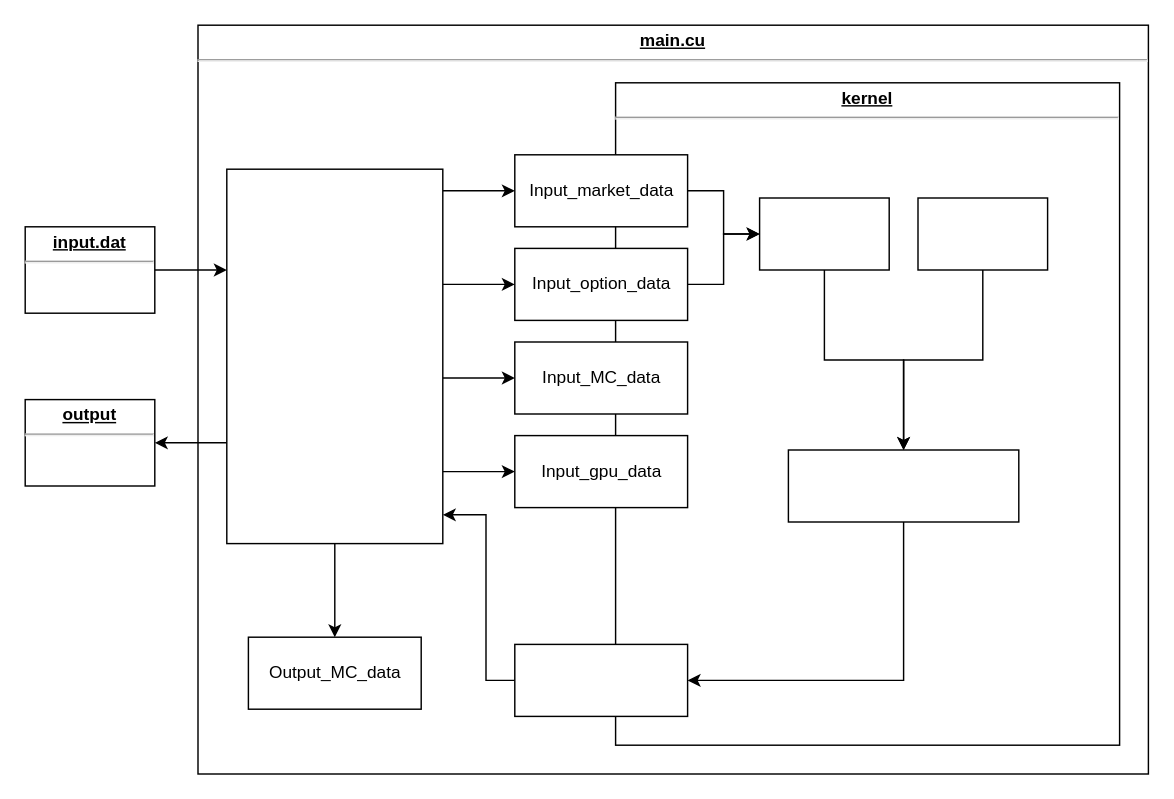
Some shapes in this 1174 by 799 pixel diagram are drawn without their labels. Here are the shapes that lost their labels. From the top down, the centre of each, then its label:
[823,233]: Path
[982,233]: RNG*
[334,356]: Data_stream_manager
[903,485]: OptionPricingEvaluator
[600,679]: Statistics
